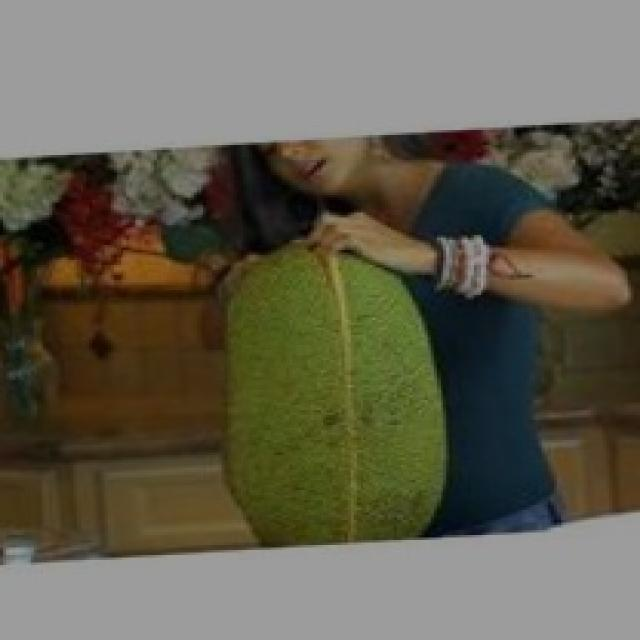Fruit: (194, 225, 486, 543)
